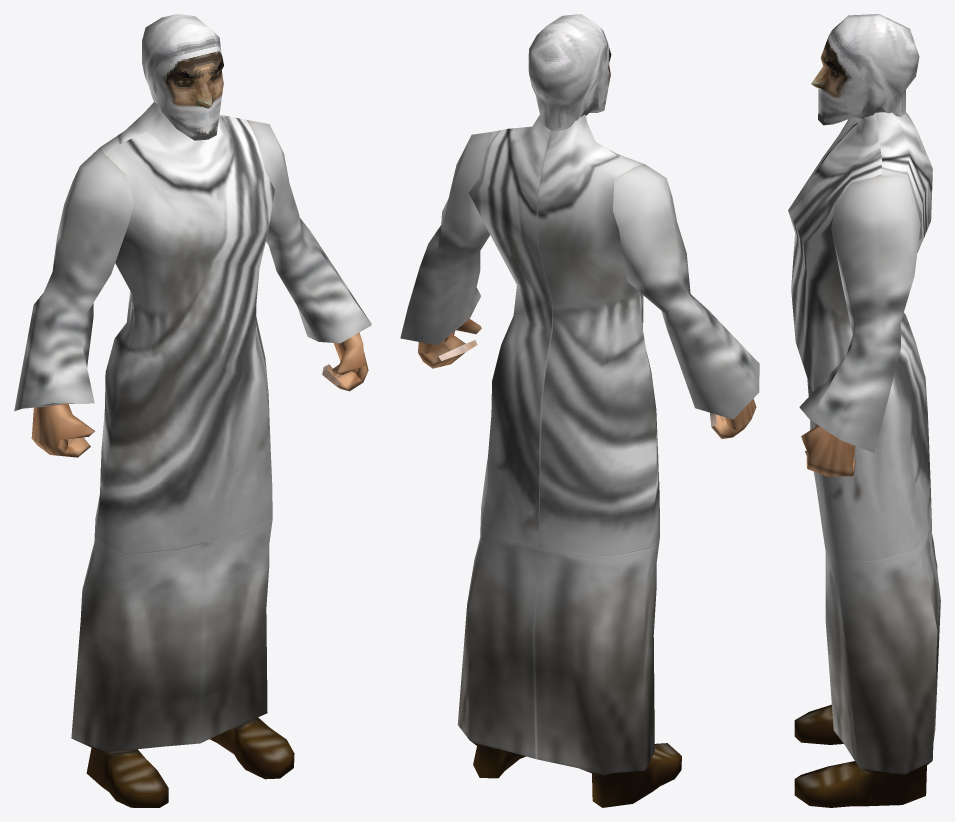
Rendered from token-healer.glb.
The picture shows the model from 3 angles, left to right: view 1: azimuth 30°, elevation 25°; view 2: azimuth 150°, elevation 25°; view 3: azimuth 270°, elevation 25°; orthographic projection.
Size of the model in its own units: 0.2052 by 0.42 by 0.0776.
Materials: 1 (1 with a texture image).
